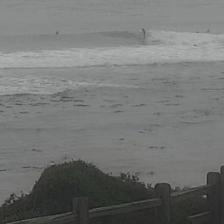surfer: (141, 28, 146, 35), (206, 29, 210, 34), (55, 31, 59, 35)
